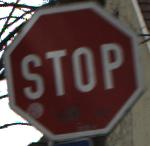Stop sign: (0, 0, 149, 145)
